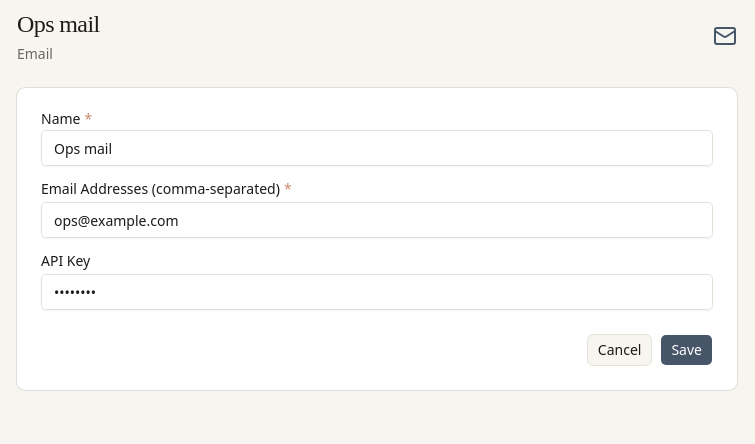
Test case: editing an alert destination › blocks a save that empties a required field and names it
Expected: the field labelled "Name" holds "Ops mail", x1=41 y1=130 x2=713 y2=166
Clear the field labelled "Email Addresses (comma-separated)*" at (377, 220), box x1=41 y1=202 x2=713 y2=238
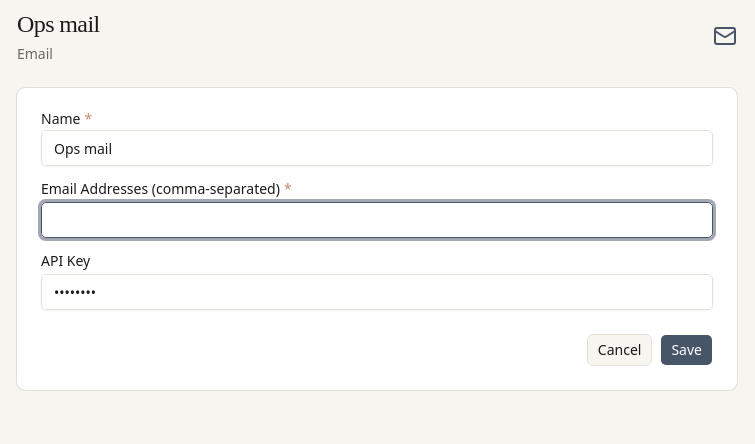
Click the button "Save" at (687, 350), box x1=660 y1=334 x2=713 y2=366
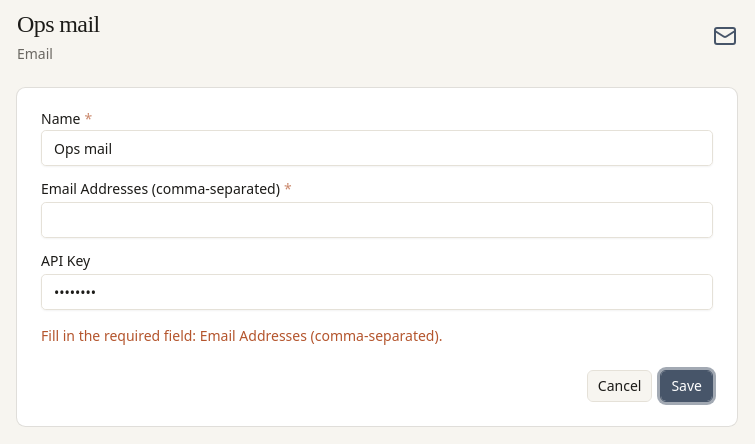
Now the message shows "Email Addresses (comma-separated)", box x1=41 y1=326 x2=442 y2=345
